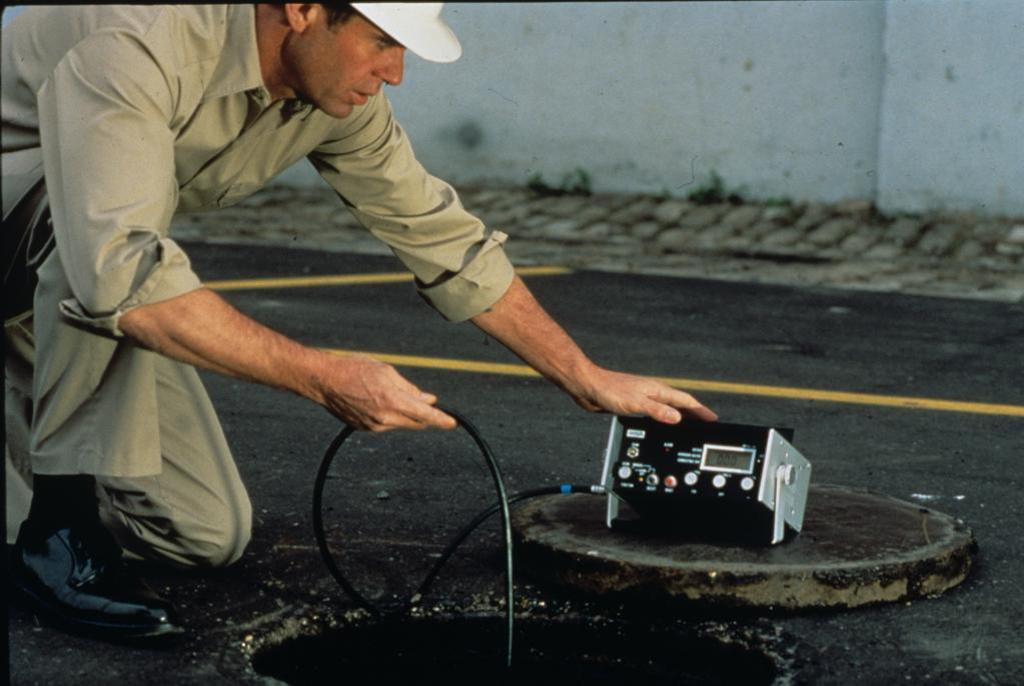face: (316, 2, 412, 124)
